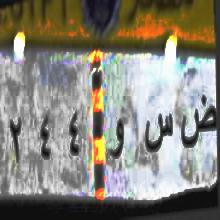2: (3, 109, 30, 177)
4: (60, 101, 86, 169), (35, 104, 56, 174)
daad: (180, 89, 216, 158)
seen: (140, 96, 176, 166)
waw: (105, 109, 130, 168)
